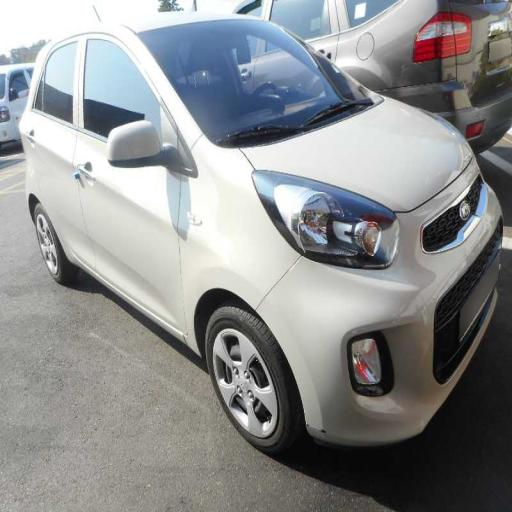dent: (151, 118, 394, 386)
